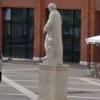Statue: (33, 0, 75, 75)
